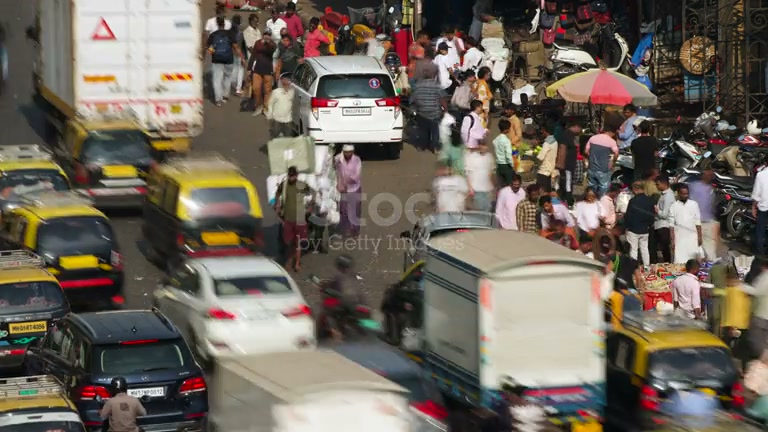car: (25, 307, 210, 429), (150, 249, 319, 369), (603, 299, 743, 430), (1, 188, 126, 306), (139, 152, 265, 267), (293, 54, 405, 158), (66, 119, 160, 215), (0, 250, 71, 376), (403, 211, 500, 269), (0, 376, 87, 429)
pedestrian: (273, 165, 316, 272), (623, 180, 659, 267), (204, 16, 238, 107), (334, 143, 363, 240), (669, 183, 703, 264), (99, 376, 147, 432), (584, 124, 619, 198), (265, 74, 302, 139), (431, 160, 471, 215), (494, 171, 527, 230), (751, 155, 768, 259), (516, 184, 543, 234)
truck: (405, 224, 611, 426), (25, 1, 207, 152)
